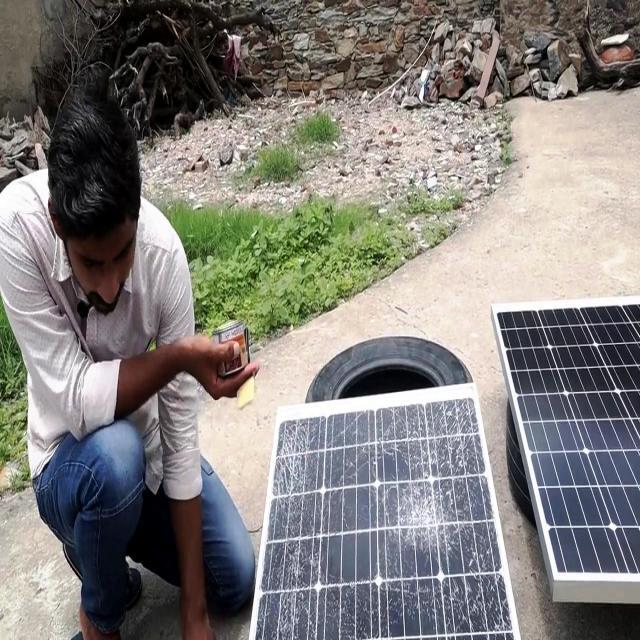faulty: (253, 390, 517, 636)
no faulty: (492, 298, 640, 578)
